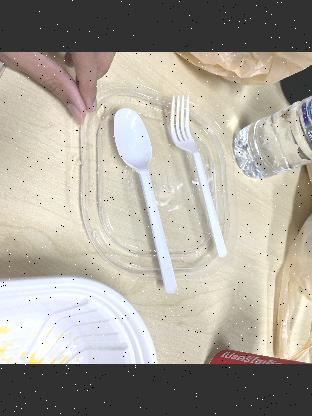Others: (106, 106, 188, 294), (166, 88, 230, 262)
